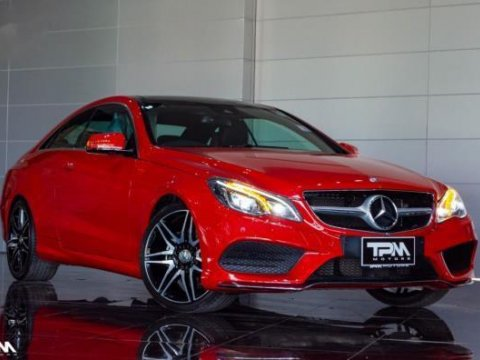sedan: (2, 94, 479, 315)
